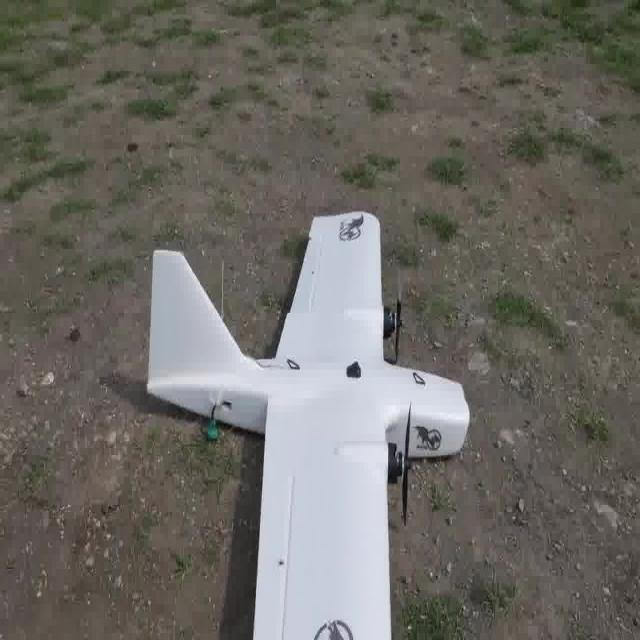iha: (148, 201, 471, 639)
